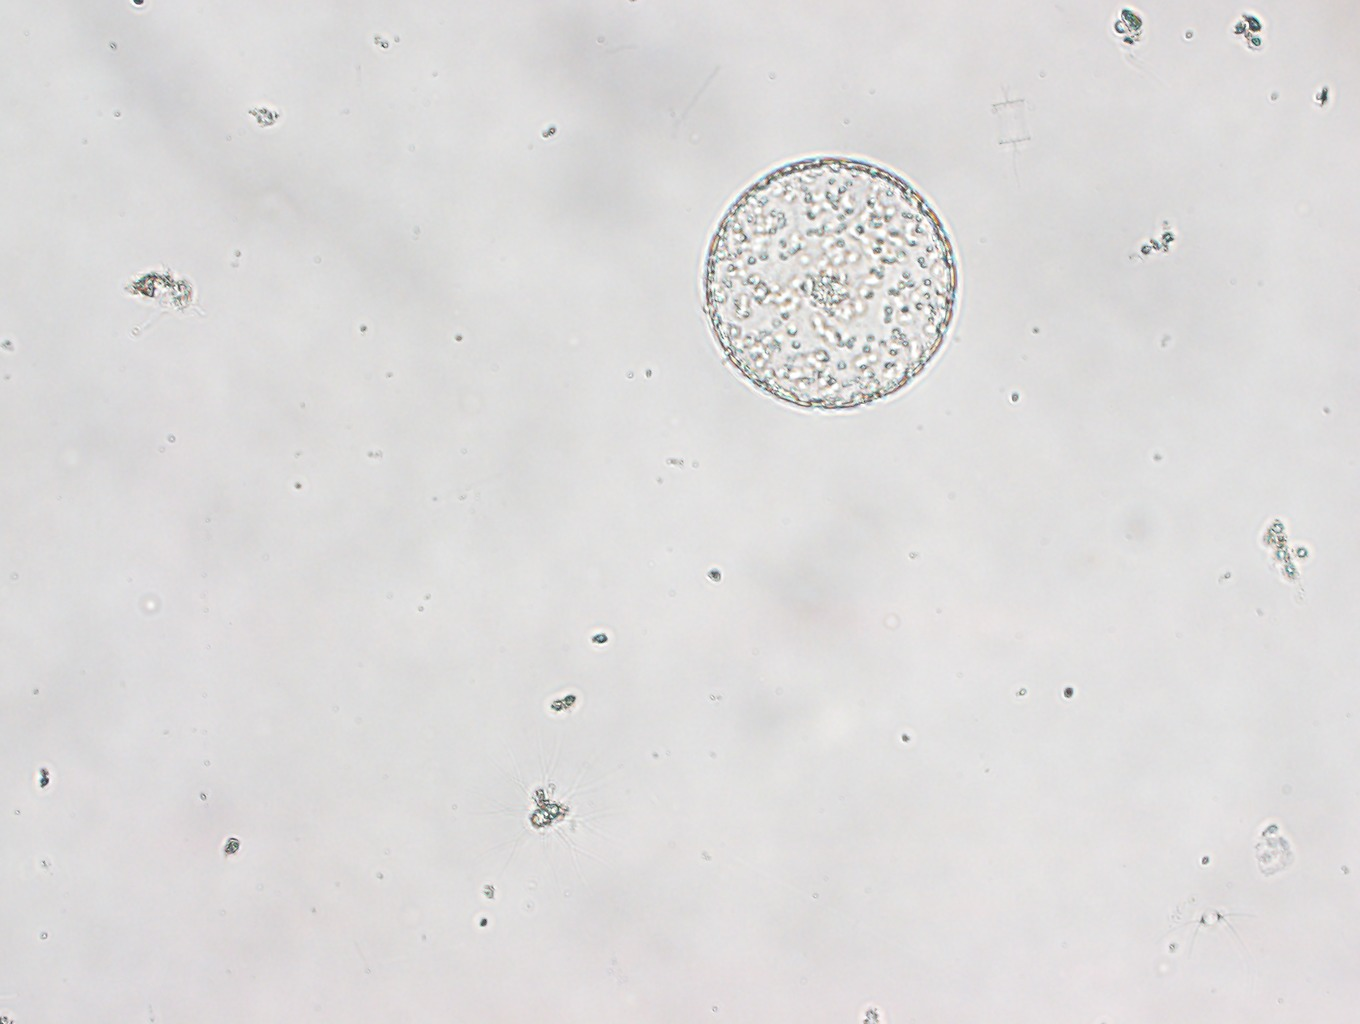coscinodiscus: (703, 156, 957, 410)
